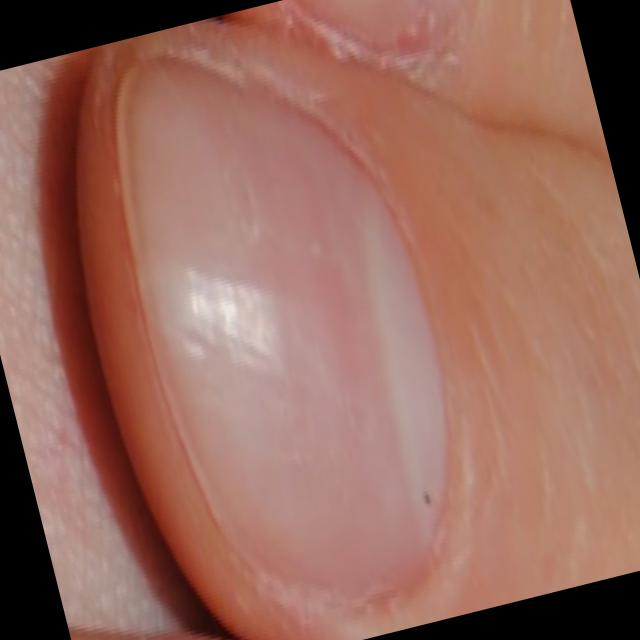Nail: (117, 59, 444, 598)
